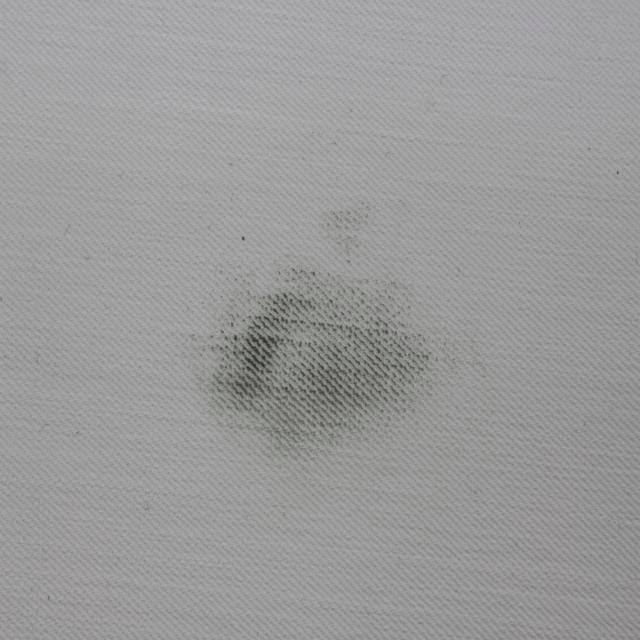stain: (186, 259, 445, 476)
